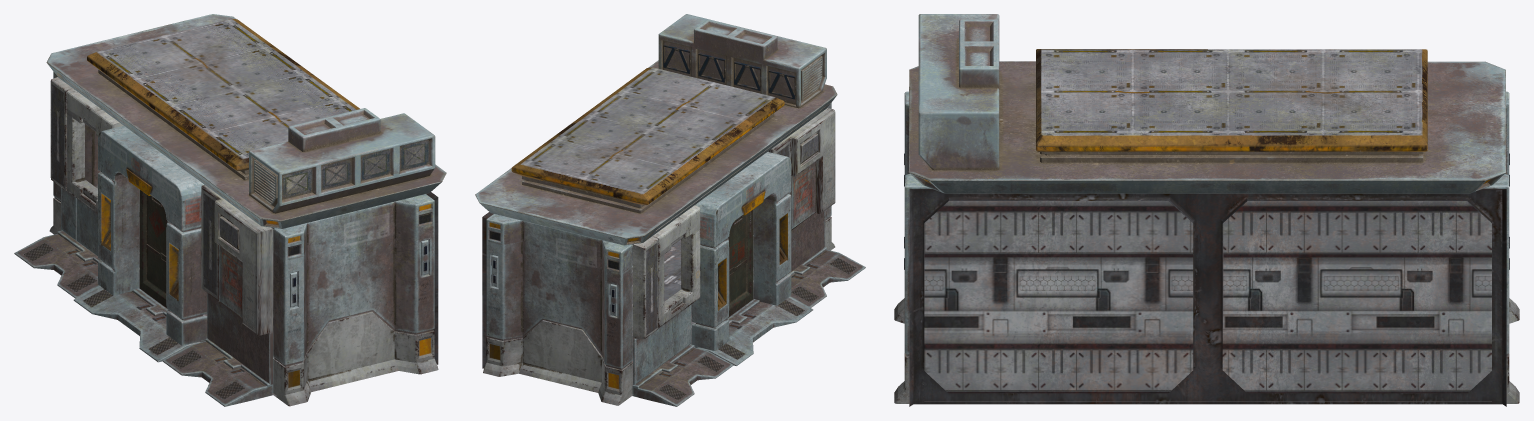
File: SM_Distillery_Tower.fbx
The picture shows the model from 3 angles, left to right: view 1: azimuth 30°, elevation 25°; view 2: azimuth 150°, elevation 25°; view 3: azimuth 270°, elevation 25°; orthographic projection. The views are drawn at different scales.
Visible parts, largest first — view 1: SM_Distillery_Tower_LOD0; view 2: SM_Distillery_Tower_LOD0; view 3: SM_Distillery_Tower_LOD0.
Part boxes in pixels (bbox=[...]): SM_Distillery_Tower_LOD0: bbox=[14, 14, 446, 406]; SM_Distillery_Tower_LOD0: bbox=[475, 14, 865, 406]; SM_Distillery_Tower_LOD0: bbox=[894, 14, 1519, 406].
Size of the model in its own units: 477 by 883 by 490.
Materials: 3 (3 with a texture image).
